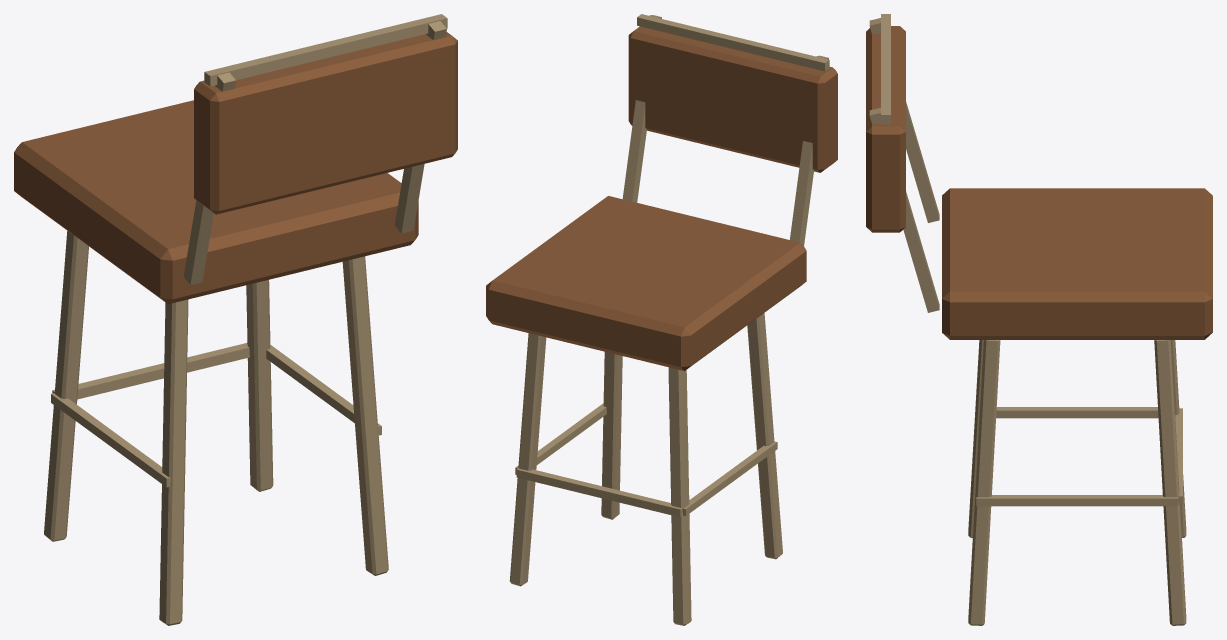
The model's file is yokocho-cocktail-stool.glb.
3 views of the same model, side by side, from view 1: azimuth 30°, elevation 25°; view 2: azimuth 150°, elevation 25°; view 3: azimuth 270°, elevation 25° (orthographic). The views are drawn at different scales.
Visible parts, largest first — view 1: Shops/S06/Personality/Seating/1_cocktail__Night_TobaccoLeath, Shops/S06/Personality/Seating/1_cocktail__Bronze; view 2: Shops/S06/Personality/Seating/1_cocktail__Night_TobaccoLeath, Shops/S06/Personality/Seating/1_cocktail__Bronze; view 3: Shops/S06/Personality/Seating/1_cocktail__Night_TobaccoLeath, Shops/S06/Personality/Seating/1_cocktail__Bronze.
Boxes of the visible parts, x1=… form: Shops/S06/Personality/Seating/1_cocktail__Night_TobaccoLeath: x1=14, y1=32, x2=457, y2=304; Shops/S06/Personality/Seating/1_cocktail__Bronze: x1=44, y1=14, x2=447, y2=625; Shops/S06/Personality/Seating/1_cocktail__Night_TobaccoLeath: x1=486, y1=26, x2=837, y2=370; Shops/S06/Personality/Seating/1_cocktail__Bronze: x1=509, y1=14, x2=829, y2=625; Shops/S06/Personality/Seating/1_cocktail__Night_TobaccoLeath: x1=866, y1=26, x2=1212, y2=339; Shops/S06/Personality/Seating/1_cocktail__Bronze: x1=869, y1=14, x2=1186, y2=625.
Bounding box in the file's own units: 0.49 × 1.07 × 0.6525.
